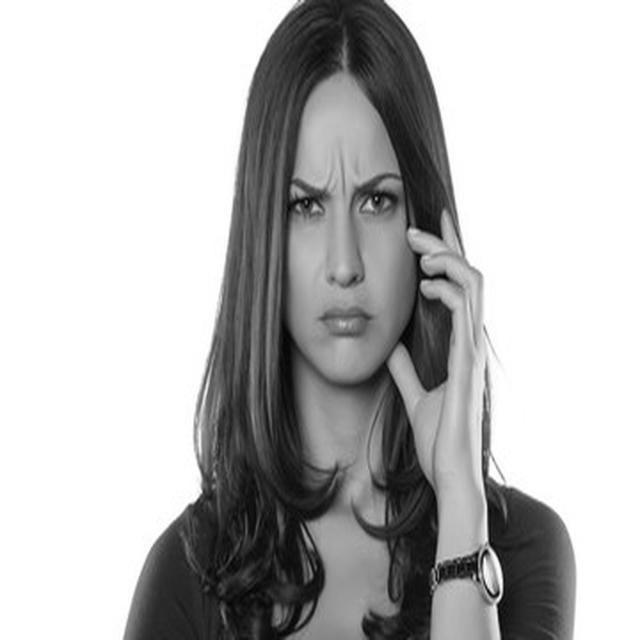Angry: (282, 75, 417, 385)
